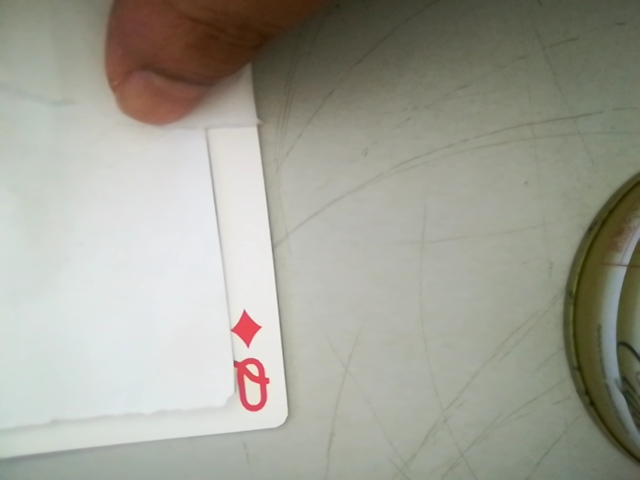fk q: (219, 301, 280, 421)
